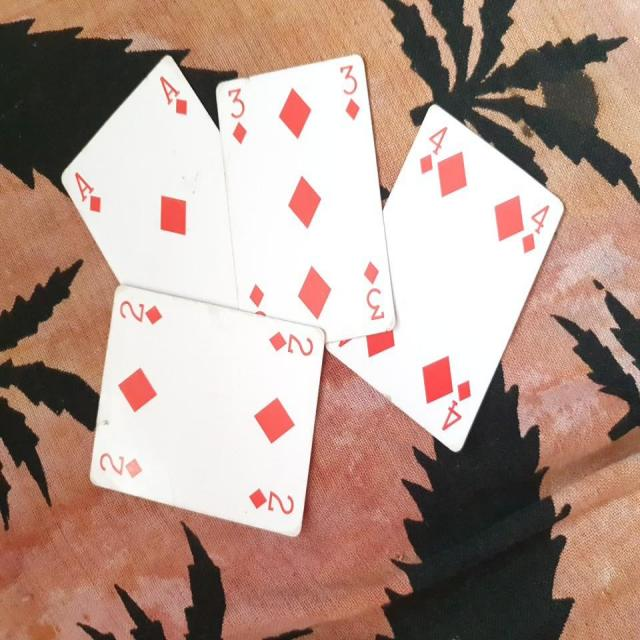2 Diamonds: (75, 285, 326, 535)
3 Diamonds: (212, 46, 395, 339)
4 Diamonds: (322, 100, 565, 458)
A Diamonds: (48, 46, 221, 297)
